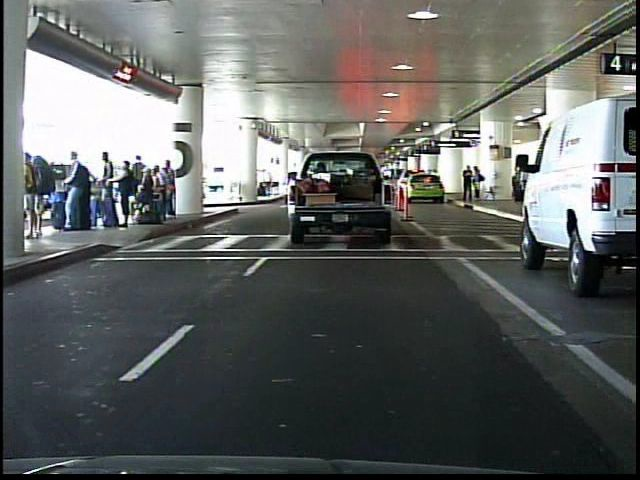person: (472, 165, 486, 203), (461, 165, 474, 203)
